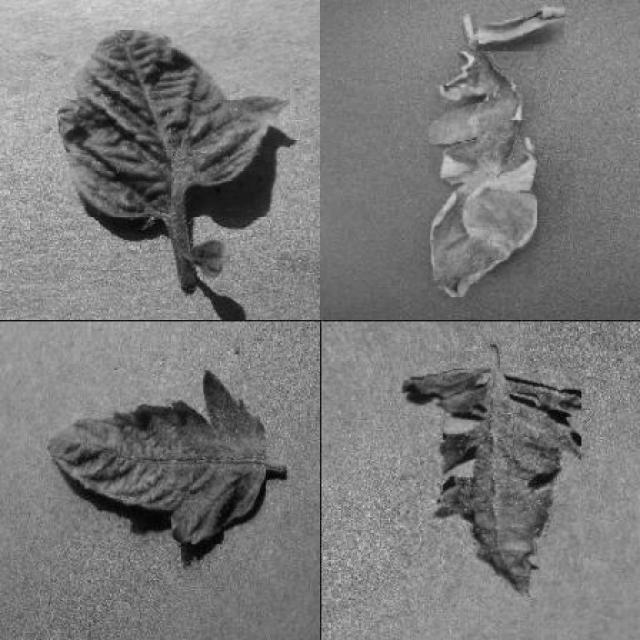Late Blight: (428, 52, 538, 297), (479, 5, 564, 44)
Mosaic Virus: (398, 368, 582, 598), (48, 370, 266, 544)
Yellow Leaf Curl Virus: (59, 30, 290, 217)
